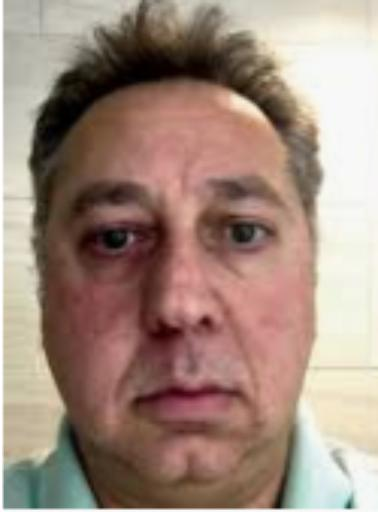left_eye: (213, 219, 277, 251)
left_lip_corner: (229, 381, 255, 407)
right_eye: (78, 224, 155, 259)
right_lip_corner: (127, 388, 152, 413)
